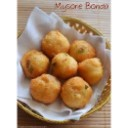bonda: (61, 78, 93, 108), (31, 75, 60, 102), (21, 50, 50, 77), (42, 29, 70, 55), (77, 55, 104, 81), (53, 51, 77, 75), (71, 38, 96, 59)
